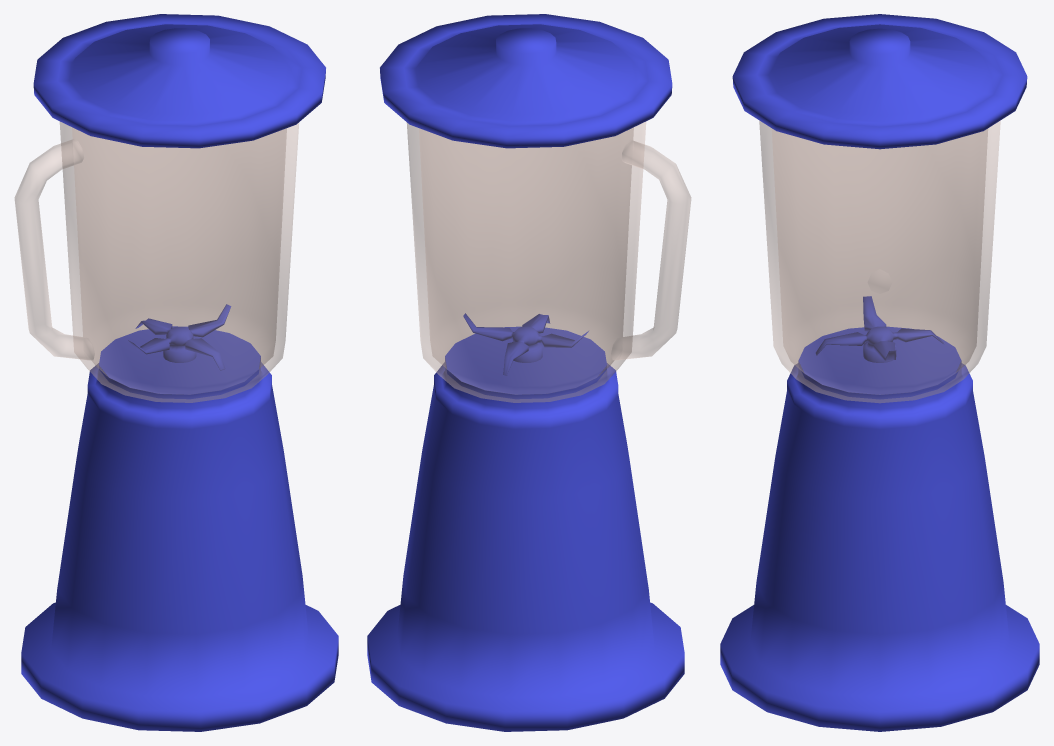
File: frullatore.fbx
The picture shows the model from 3 angles, left to right: view 1: azimuth 30°, elevation 25°; view 2: azimuth 150°, elevation 25°; view 3: azimuth 270°, elevation 25°; orthographic projection.
Parts seen in each view (by area): view 1: FRULLATOR, Vetro; view 2: FRULLATOR, Vetro; view 3: FRULLATOR, Vetro.
Boxes of the visible parts, x1=… form: FRULLATOR: x1=21, y1=14, x2=338, y2=731; Vetro: x1=14, y1=122, x2=298, y2=402; FRULLATOR: x1=367, y1=14, x2=684, y2=731; Vetro: x1=407, y1=122, x2=691, y2=402; FRULLATOR: x1=720, y1=14, x2=1039, y2=731; Vetro: x1=759, y1=121, x2=1000, y2=402.
Size of the model in its own units: 218 by 430 by 200.
